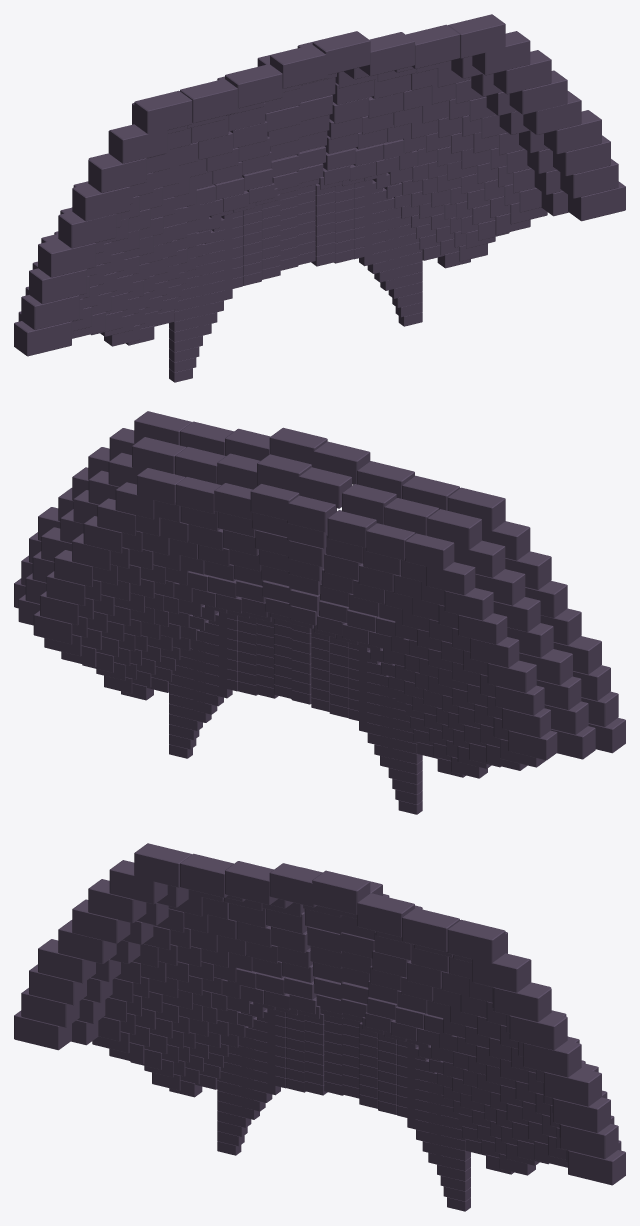
The model's file is portal1lvl.fbx.
The picture shows the model from 3 angles, top to bottom: view 1: azimuth 30°, elevation 25°; view 2: azimuth 150°, elevation 25°; view 3: azimuth 330°, elevation 25°; orthographic projection.
Parts seen in each view (by area): view 1: Cube.030; view 2: Cube.030; view 3: Cube.030.
Part boxes in pixels (bbox=[...]): Cube.030: bbox=[14, 14, 625, 382]; Cube.030: bbox=[14, 411, 625, 814]; Cube.030: bbox=[14, 843, 625, 1211].
Bounding box in the file's own units: 1549 × 795 × 173.
